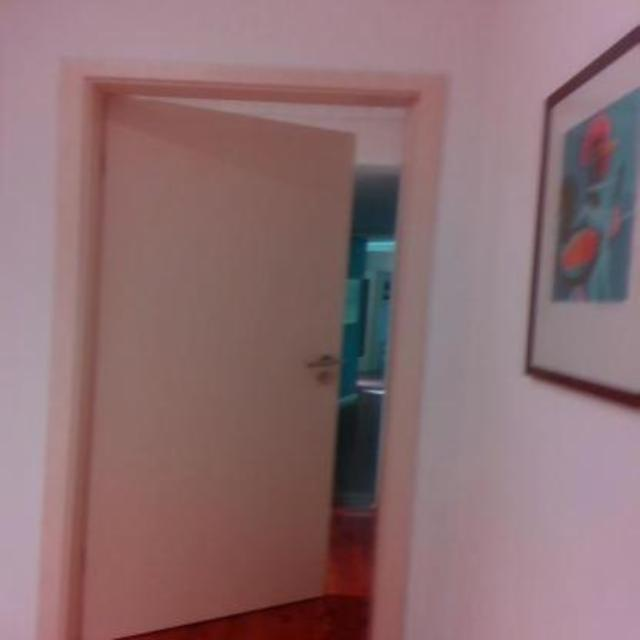door: (93, 86, 341, 640)
